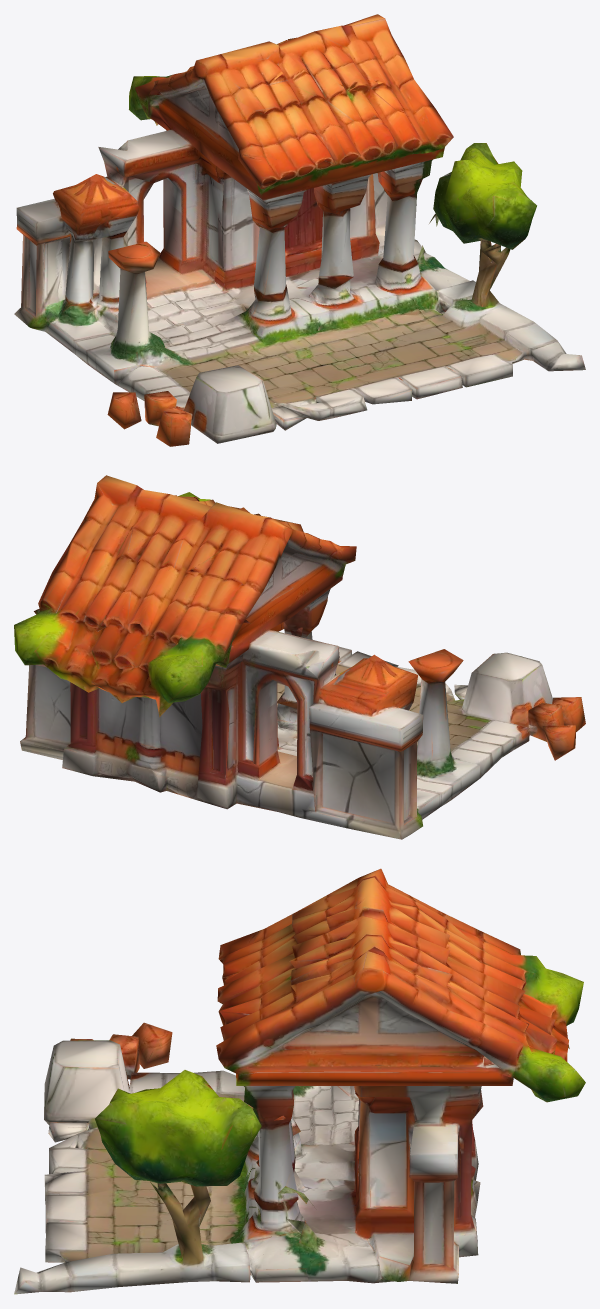
Rendered from agora.glb.
3 views of the same model, one above another, from view 1: azimuth 30°, elevation 25°; view 2: azimuth 150°, elevation 25°; view 3: azimuth 270°, elevation 25° (orthographic). The views are drawn at different scales.
Parts seen in each view (by area): view 1: Mesh1.0; view 2: Mesh1.0; view 3: Mesh1.0.
Boxes of the visible parts, x1=… form: Mesh1.0: x1=14, y1=14, x2=585, y2=446; Mesh1.0: x1=14, y1=475, x2=585, y2=839; Mesh1.0: x1=14, y1=868, x2=585, y2=1294.
Bounding box in the file's own units: 2 × 1.14 × 1.97.
1 material, 1 textured.
